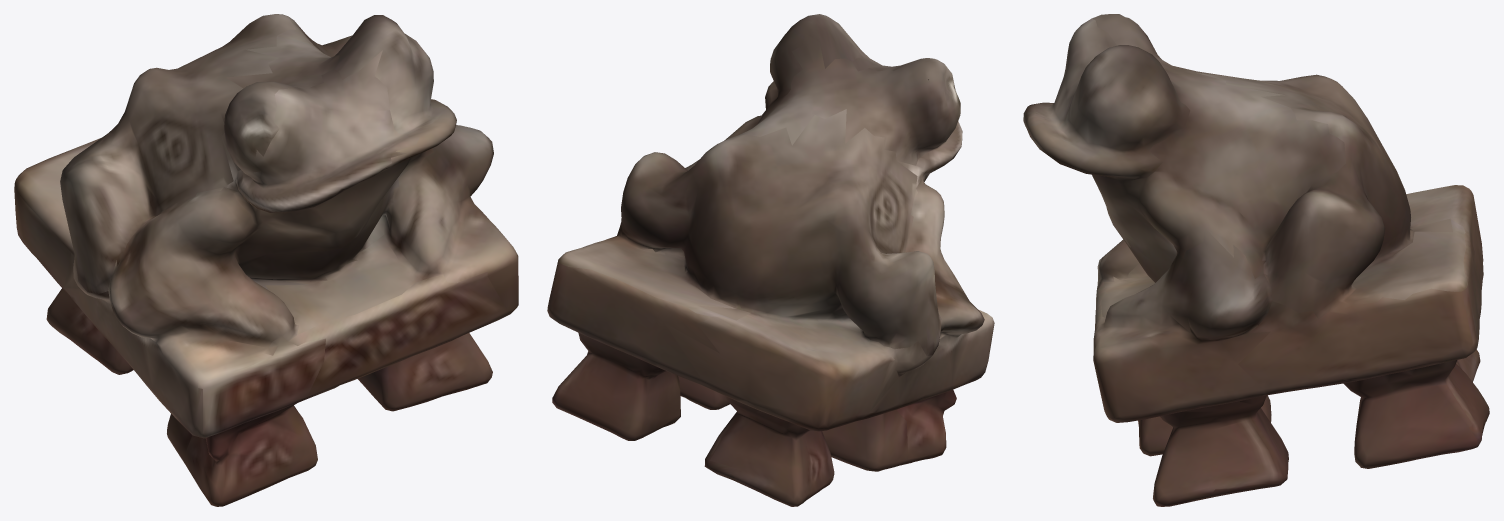
Rendered from v11_banco_entalhado.glb.
3 renders of one model, left to right at view 1: azimuth 30°, elevation 25°; view 2: azimuth 150°, elevation 25°; view 3: azimuth 270°, elevation 25°, orthographic. The views are drawn at different scales.
Visible parts, largest first — view 1: v11_banco_entalhado; view 2: v11_banco_entalhado; view 3: v11_banco_entalhado.
Boxes of the visible parts, left/top/right/bottom form: v11_banco_entalhado: left=14, top=14, right=518, bottom=506; v11_banco_entalhado: left=547, top=14, right=994, bottom=506; v11_banco_entalhado: left=1023, top=14, right=1489, bottom=506.
Size of the model in its own units: 0.4122 by 0.4639 by 0.4327.
Materials: 1 (1 with a texture image).
